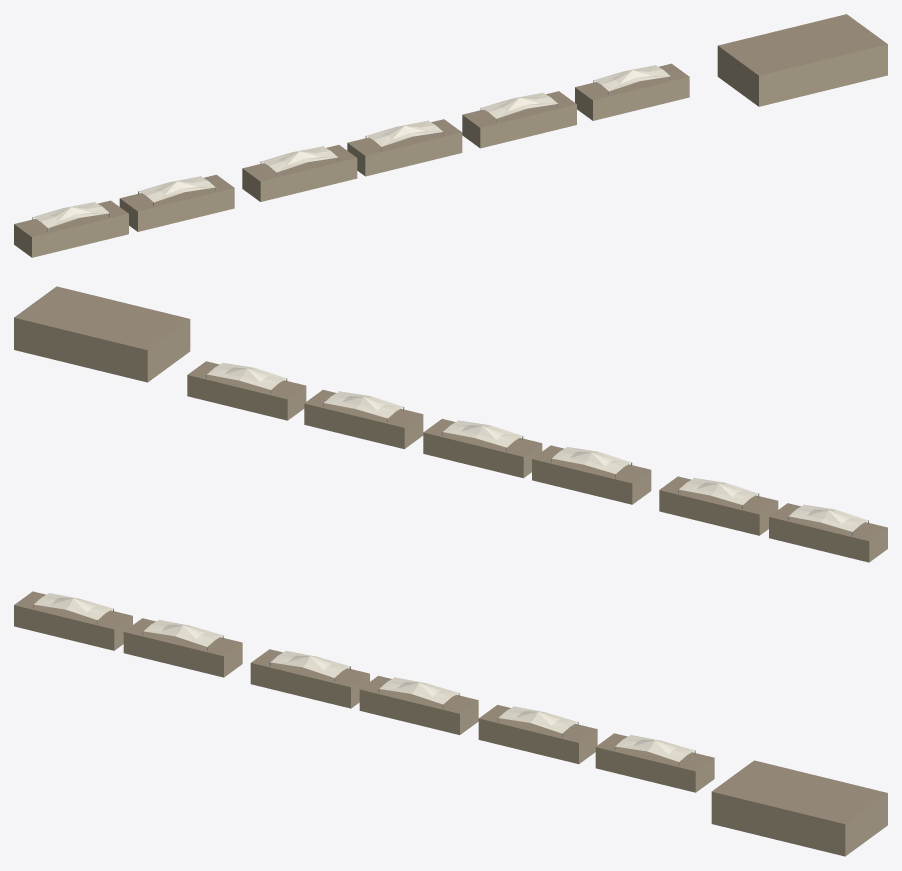
The model's file is paddock.glb.
The picture shows the model from 3 angles, top to bottom: view 1: azimuth 30°, elevation 25°; view 2: azimuth 150°, elevation 25°; view 3: azimuth 330°, elevation 25°; orthographic projection. The views are drawn at different scales.
Visible parts, largest first — view 1: chunk_0_0; view 2: chunk_0_0; view 3: chunk_0_0.
Part boxes in pixels (x1=…): chunk_0_0: x1=14, y1=14, x2=887, y2=257; chunk_0_0: x1=14, y1=286, x2=887, y2=562; chunk_0_0: x1=14, y1=591, x2=887, y2=856.
Size of the model in its own units: 375 by 14 by 35.4.
